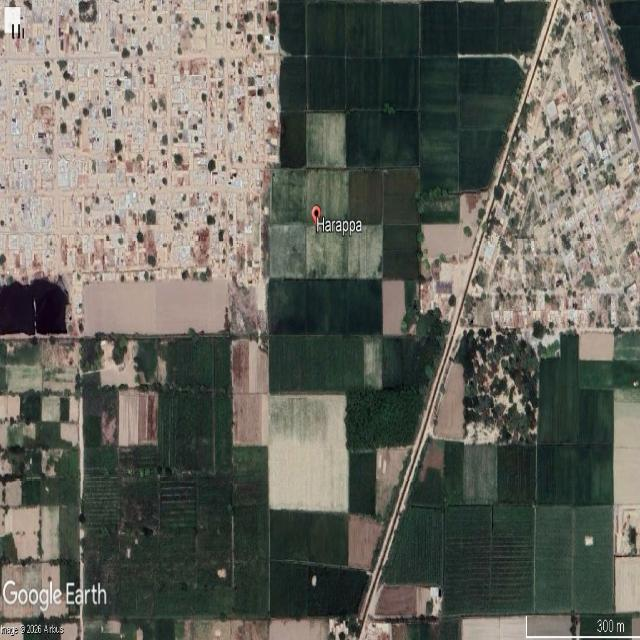objects-ruins-artifacts: (300, 69, 541, 560), (31, 74, 260, 273)
